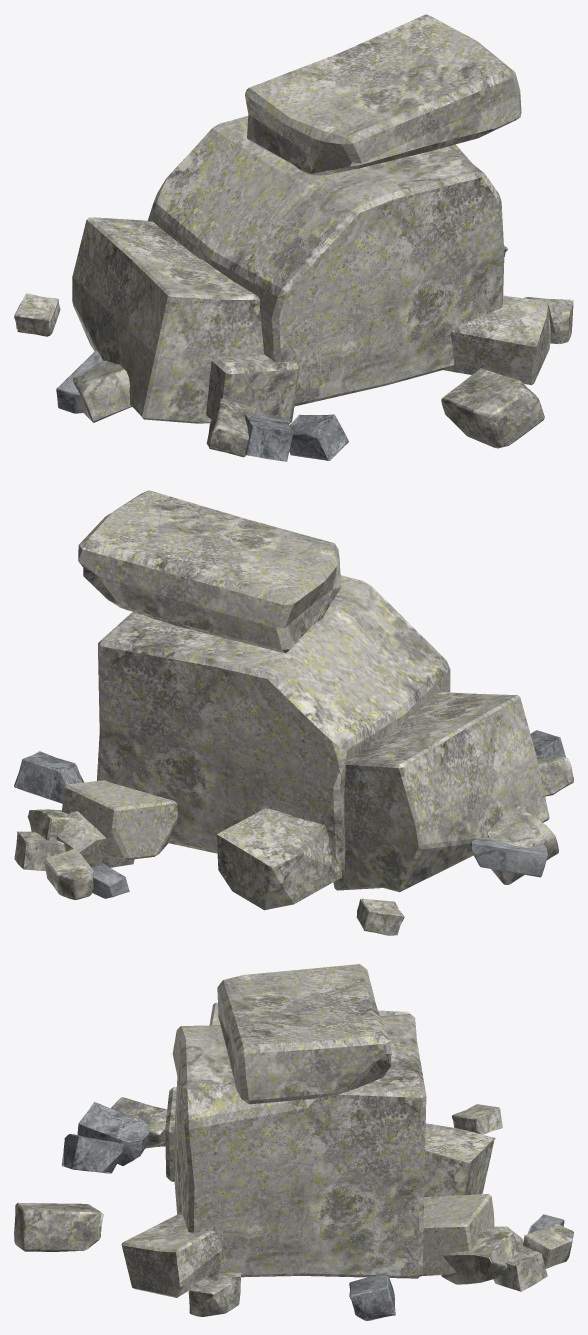
File: cima-diente-alba.glb
The picture shows the model from 3 angles, top to bottom: view 1: azimuth 30°, elevation 25°; view 2: azimuth 150°, elevation 25°; view 3: azimuth 270°, elevation 25°; orthographic projection. The views are drawn at different scales.
Visible parts, largest first — view 1: hito_granito_liquen, bloque0, bloque10, bloque7, bloque13, bloque2, bloque4, bloque9, bloque6; view 2: hito_granito_liquen, bloque12, bloque10, bloque9, bloque1, bloque5, bloque4, bloque8, bloque13, bloque11, bloque3, bloque2; view 3: hito_granito_liquen, bloque0, bloque11, bloque2, bloque6, bloque7, bloque12, bloque8, bloque1, bloque13, bloque4.
Boxes of the visible parts, x1,y1,x2,y2 form: hito_granito_liquen: (72,14,555,423); bloque0: (441,368,544,448); bloque10: (73,360,131,422); bloque7: (289,414,348,460); bloque13: (206,398,256,457); bloque2: (244,413,293,461); bloque4: (14,293,60,336); bloque9: (56,350,103,413); bloque6: (523,297,573,343); hito_granito_liquen: (61,490,549,910); bloque12: (14,751,84,803); bloque10: (487,806,558,884); bloque9: (470,836,547,877); bloque1: (43,848,94,899); bloque5: (56,811,134,867); bloque4: (356,898,404,935); bloque8: (14,831,65,871); bloque13: (537,755,573,796); bloque11: (27,809,79,840); bloque3: (91,864,129,898); bloque2: (530,730,565,759); hito_granito_liquen: (121,964,495,1297); bloque0: (14,1202,103,1251); bloque11: (441,1231,519,1284); bloque2: (77,1102,149,1165); bloque6: (188,1272,241,1316); bloque7: (61,1134,123,1173); bloque12: (349,1272,395,1320); bloque8: (493,1244,547,1291); bloque1: (523,1224,573,1268); bloque13: (111,1097,167,1148); bloque4: (452,1104,502,1134).
Size of the model in its own units: 4.06 by 2.25 by 4.22.
2 materials, 2 textured.
